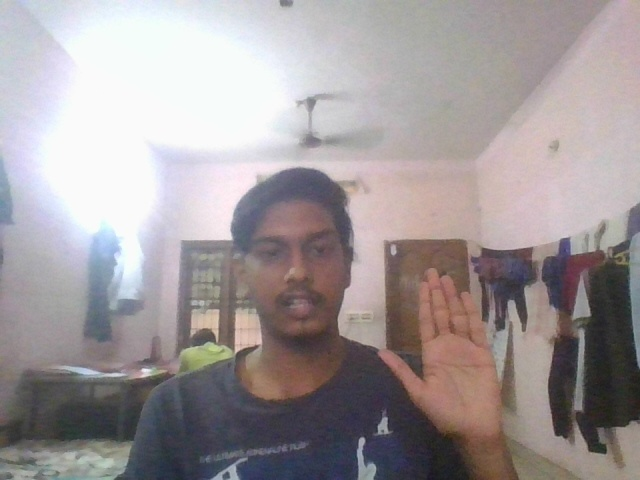hello: (373, 267, 517, 445)
